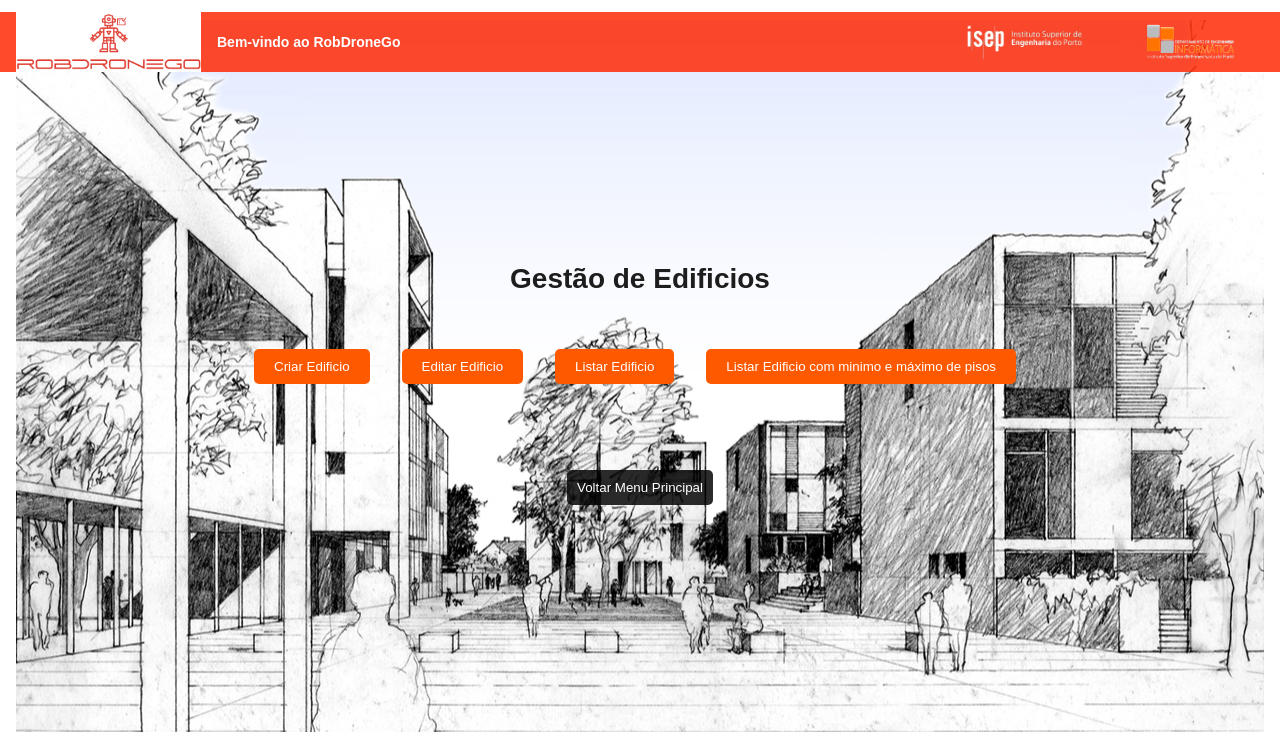
Scenario: List Building Min and Max Floor Component › should display a warning when negative values are provided
Click the button with id "btnListarMinMax" at (861, 367), box [706,349,1016,384]
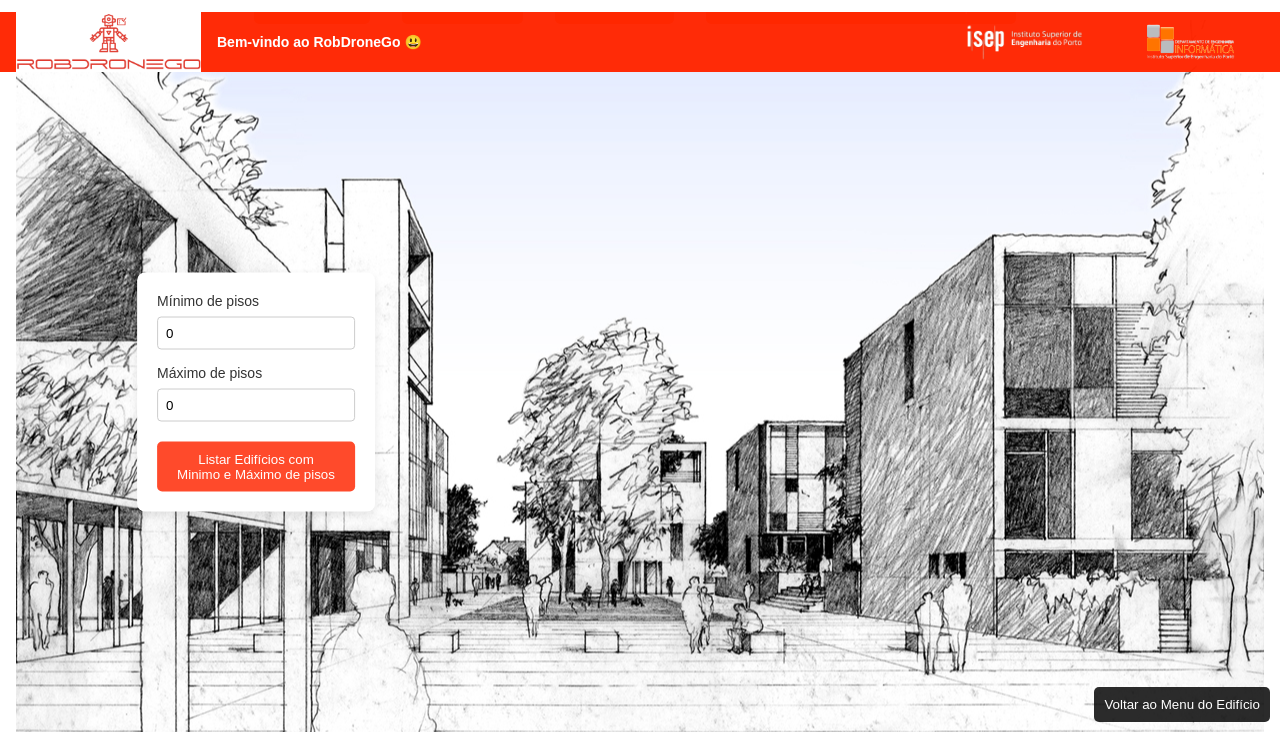
Check: the element with class "form-container" is shown, box [137,273,375,512]
Replace the text in the number field with id "new-minFloor" with "-2" at (256, 334), box [157,317,355,350]
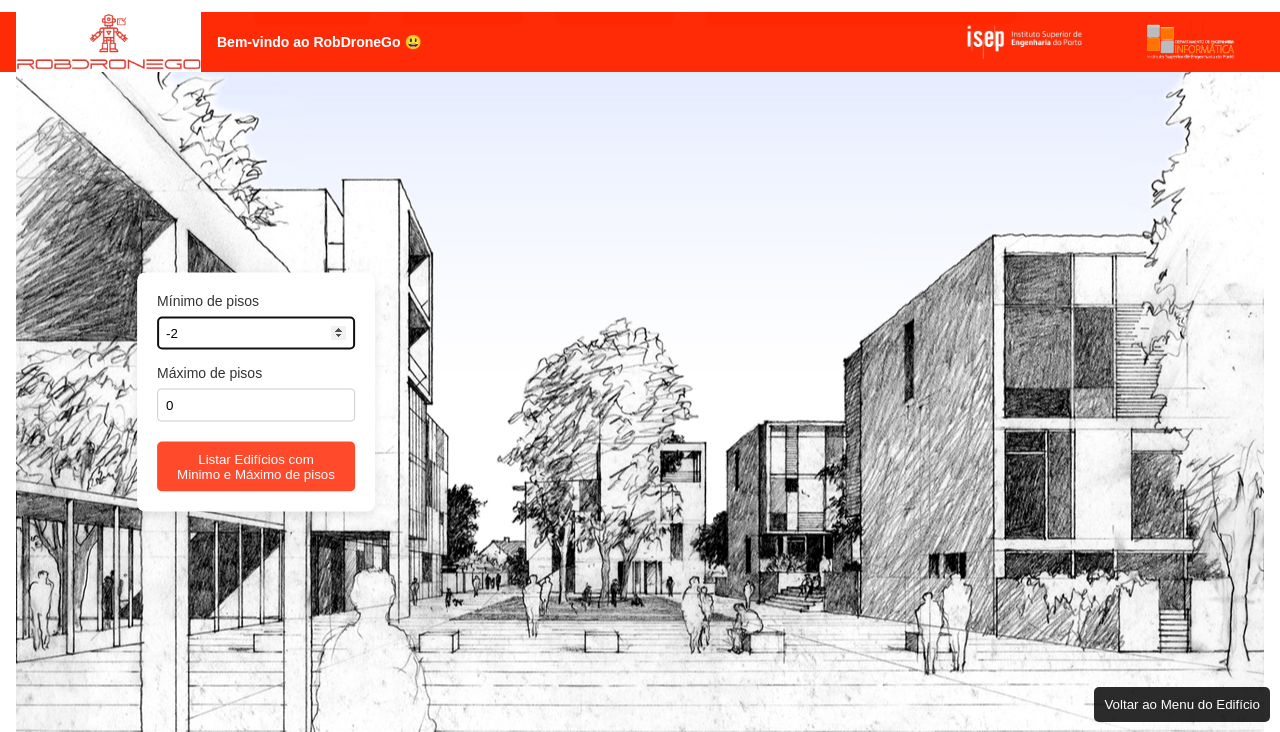
Replace the text in the number field with id "new-maxFloor" with "2" at (256, 406), box [157,389,355,422]
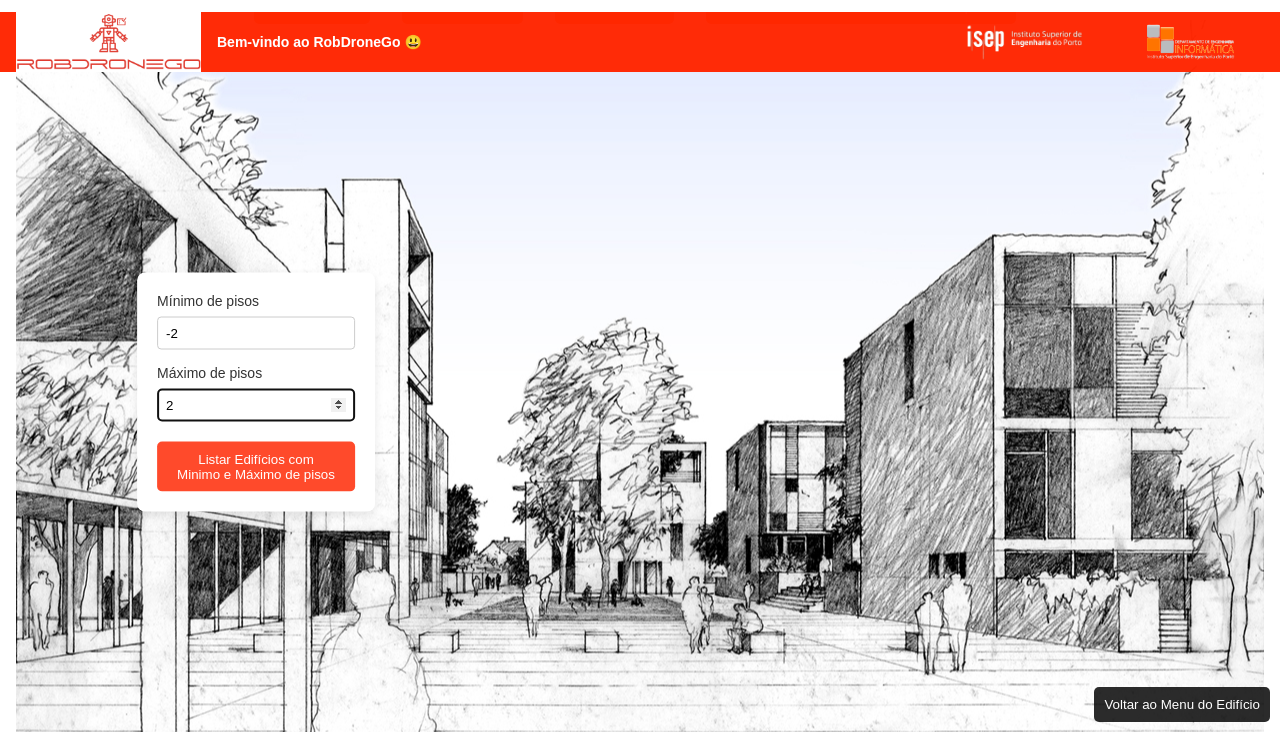
Click the button with id "list-building-min-max-floor" at (256, 467), box [157,442,355,492]
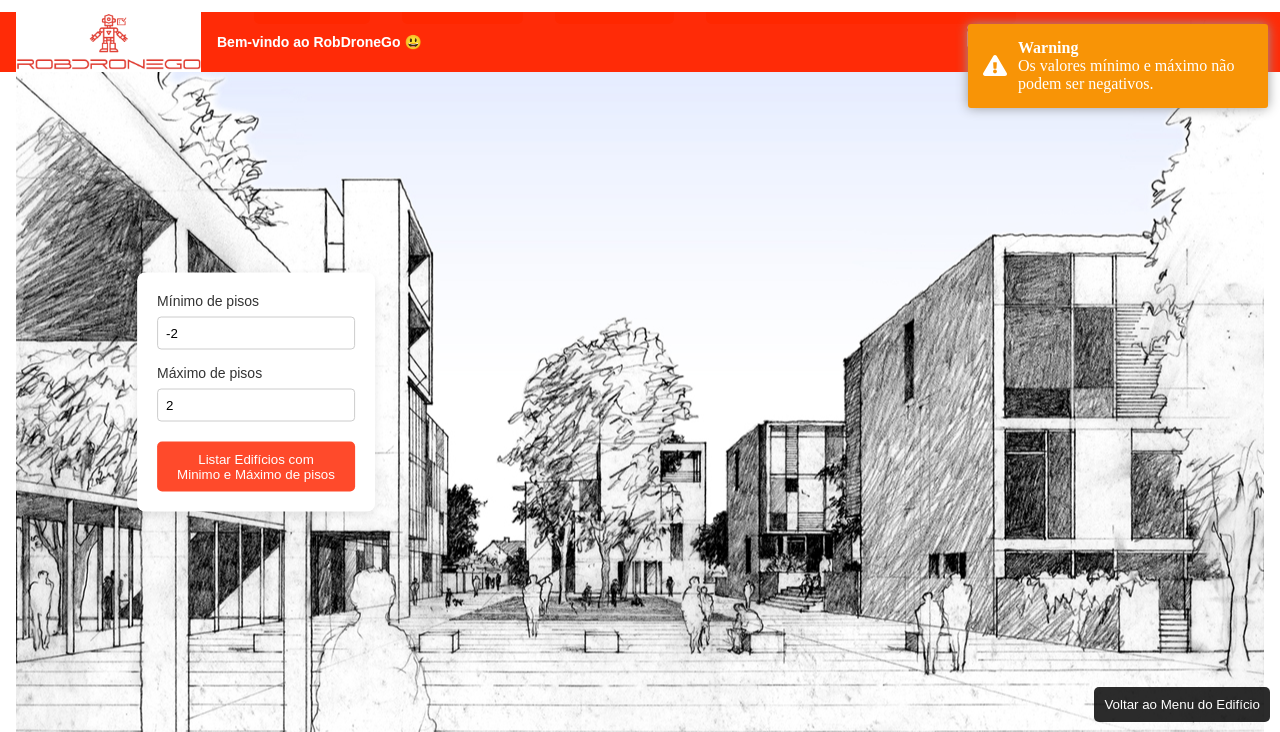
Check: the element with class "toast-warning" is shown, box [968,24,1268,108]
Check: the text "Os valores mínimo e máximo não podem ser negativos." is shown, box [1018,57,1253,93]
